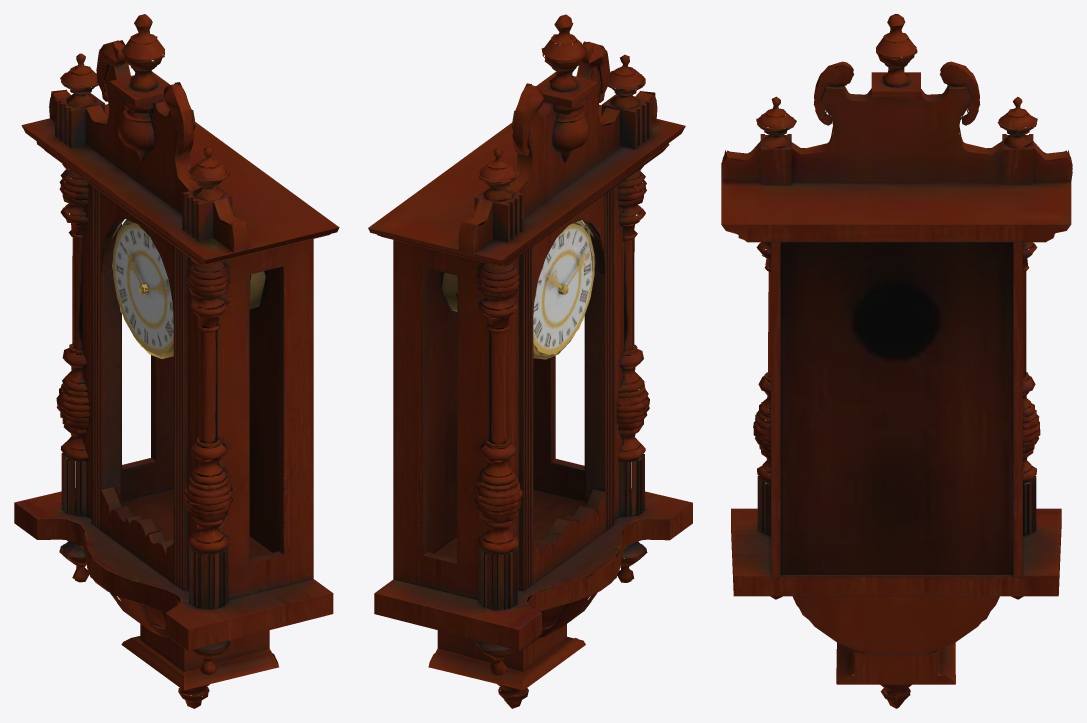
Rendered from obj_antique_clock.glb.
3 renders of one model, left to right at view 1: azimuth 30°, elevation 25°; view 2: azimuth 150°, elevation 25°; view 3: azimuth 270°, elevation 25°, orthographic. The views are drawn at different scales.
Visible parts, largest first — view 1: Object_2; view 2: Object_2; view 3: Object_2.
Part boxes in pixels (x1=…): Object_2: x1=14, y1=14, x2=339, y2=708; Object_2: x1=368, y1=14, x2=692, y2=708; Object_2: x1=721, y1=14, x2=1072, y2=708.
Bounding box in the file's own units: 0.1632 × 0.7511 × 0.3574.
1 material, 1 textured.
